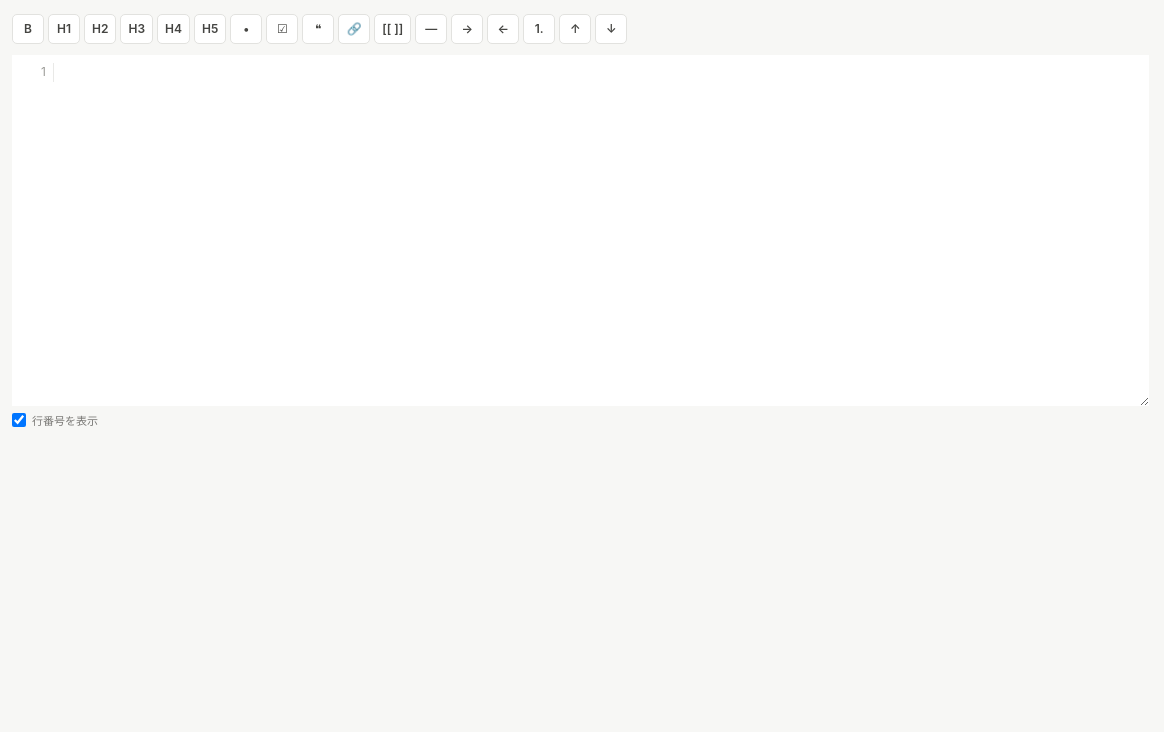
Test case: NoteMarkdownEditor and shared Note UI helpers › cancels stale search results when the query changes
In the text box named "Markdown本文": (602, 230) left=54, top=55, right=1149, bottom=406, type "[ [A"
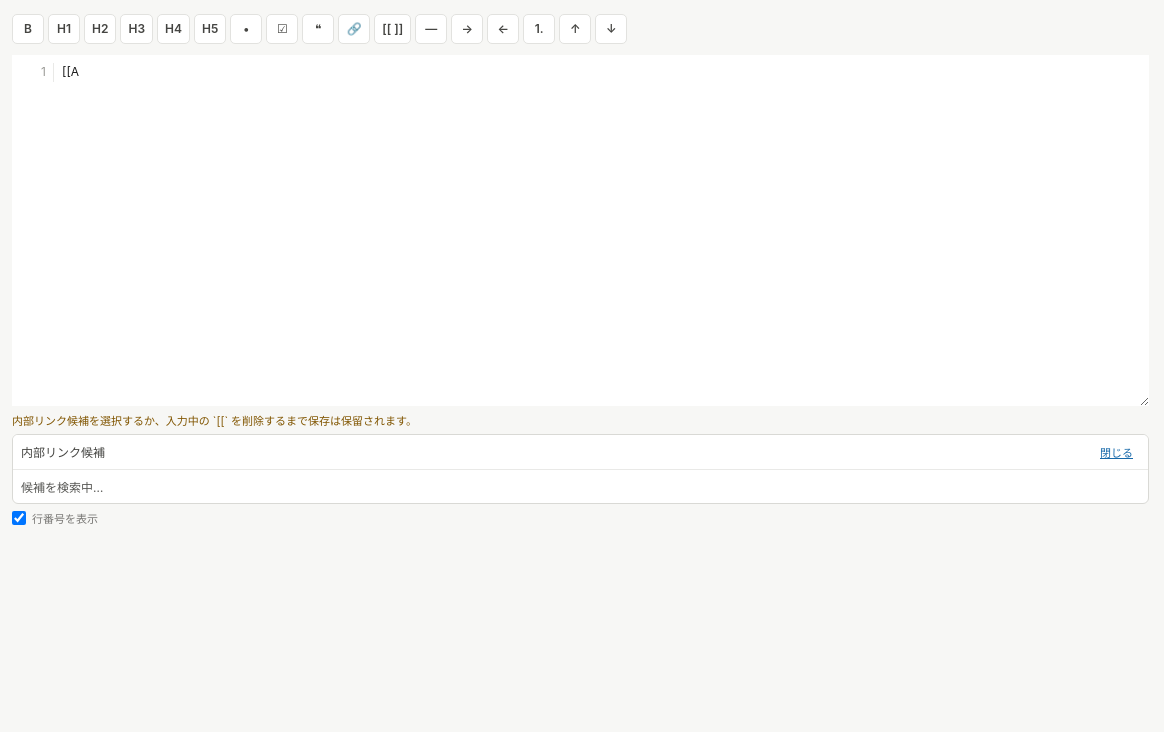
Replace the text in the text box named "Markdown本文" with "[ [B": (602, 230) left=54, top=55, right=1149, bottom=406
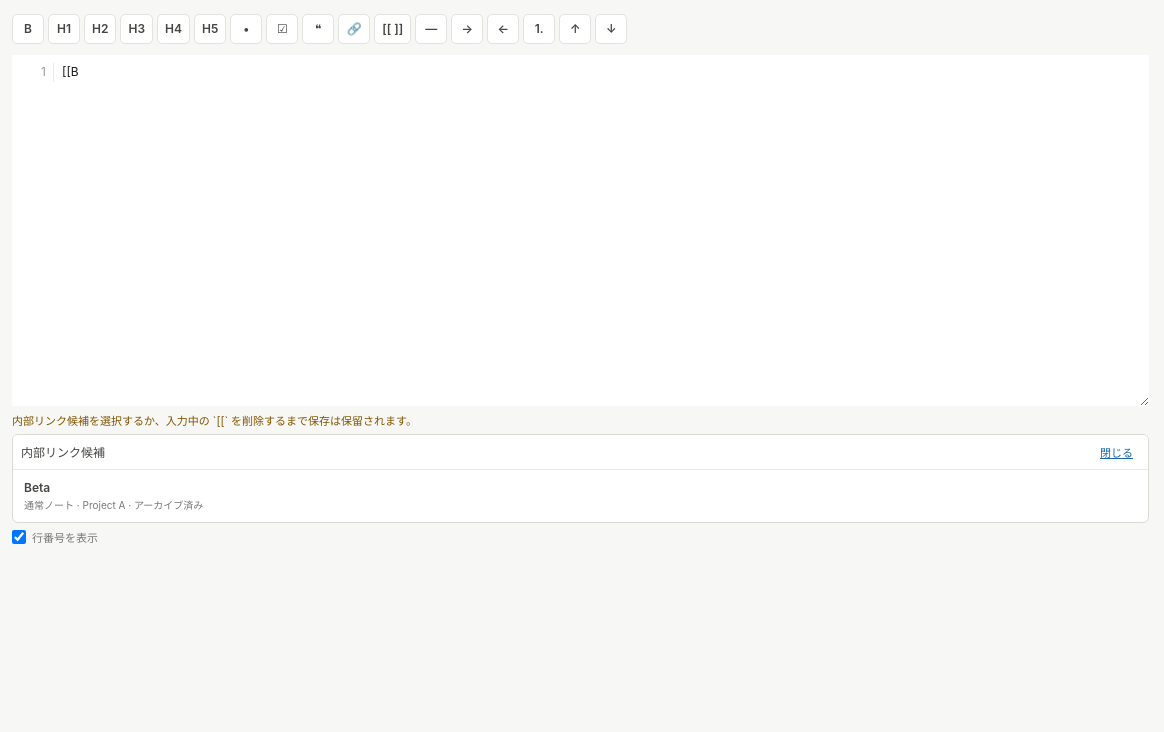
Check: the button "Beta 通常ノート · Project A · アーカイブ済み" is shown, box left=17, top=474, right=1144, bottom=518
